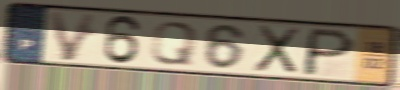6: (204, 23, 250, 71), (102, 14, 142, 66)
P: (299, 26, 358, 78)
Q: (148, 20, 201, 67)
V: (46, 10, 101, 63)
X: (251, 23, 303, 76)
